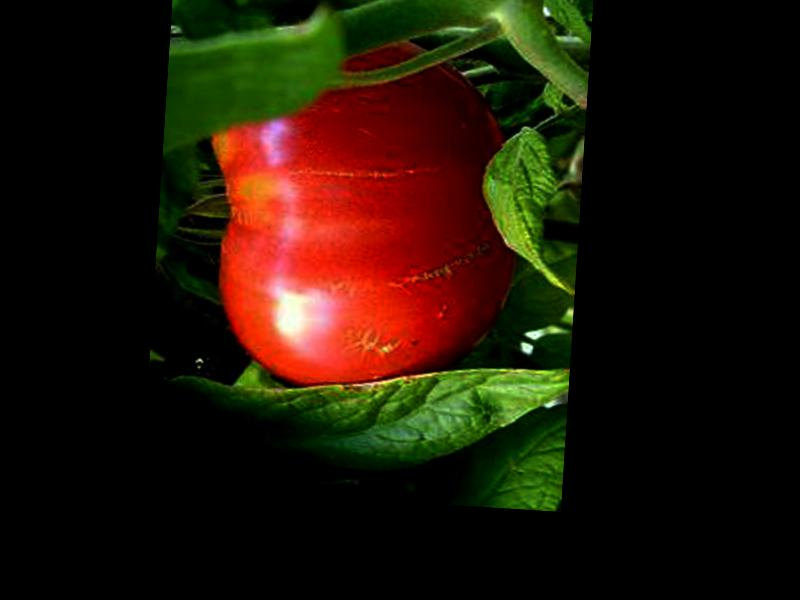Tomato: (194, 30, 526, 402)
